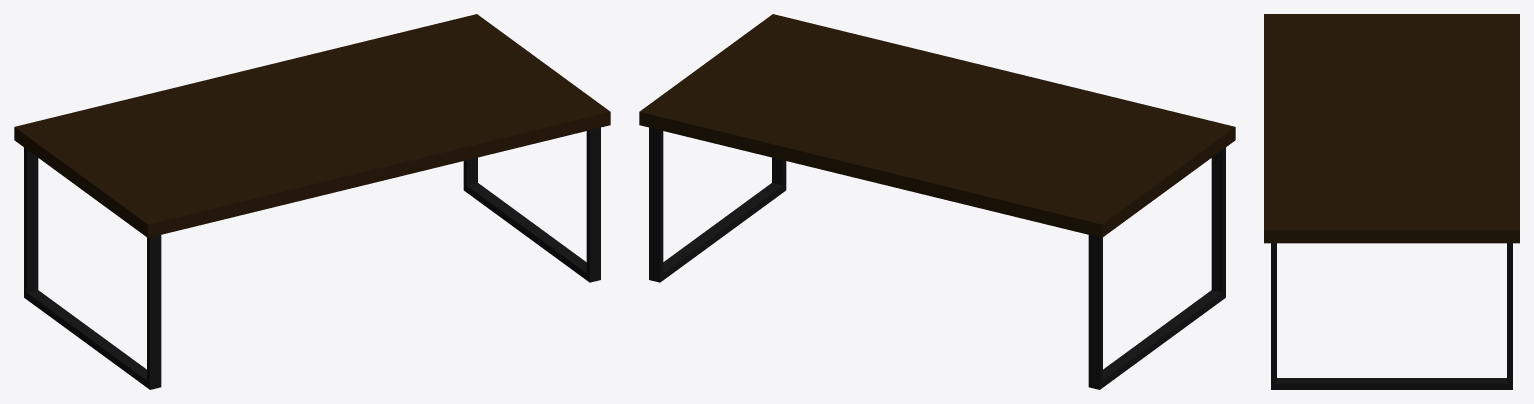
File: squareLegsTable.fbx
The picture shows the model from 3 angles, left to right: view 1: azimuth 30°, elevation 25°; view 2: azimuth 150°, elevation 25°; view 3: azimuth 270°, elevation 25°; orthographic projection. The views are drawn at different scales.
Visible parts, largest first — view 1: squareLegsTable; view 2: squareLegsTable; view 3: squareLegsTable.
Boxes of the visible parts, x1,y1,x2,y2 form: squareLegsTable: (14, 14, 610, 389); squareLegsTable: (639, 14, 1235, 389); squareLegsTable: (1264, 14, 1519, 389).
Bounding box in the file's own units: 200 × 70 × 100.
